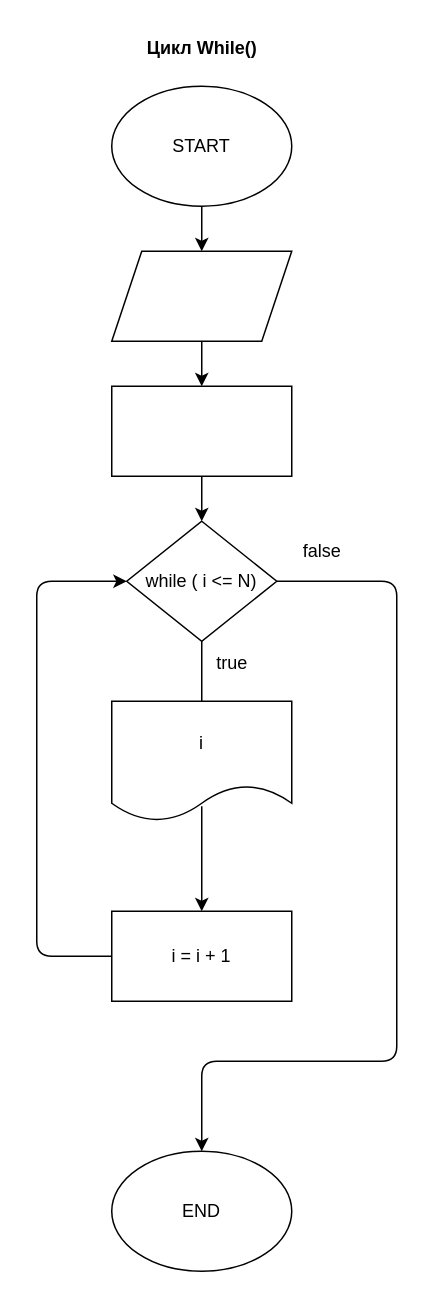
Some shapes in this 435 by 1298 pixel diagram are drawn without their labels. The shapes that lost their labels are listed below. From the top down, each one's centre as x and y in pixels, then its label:
At point (201, 295): "input N".
At point (201, 430): "int i = - N".
